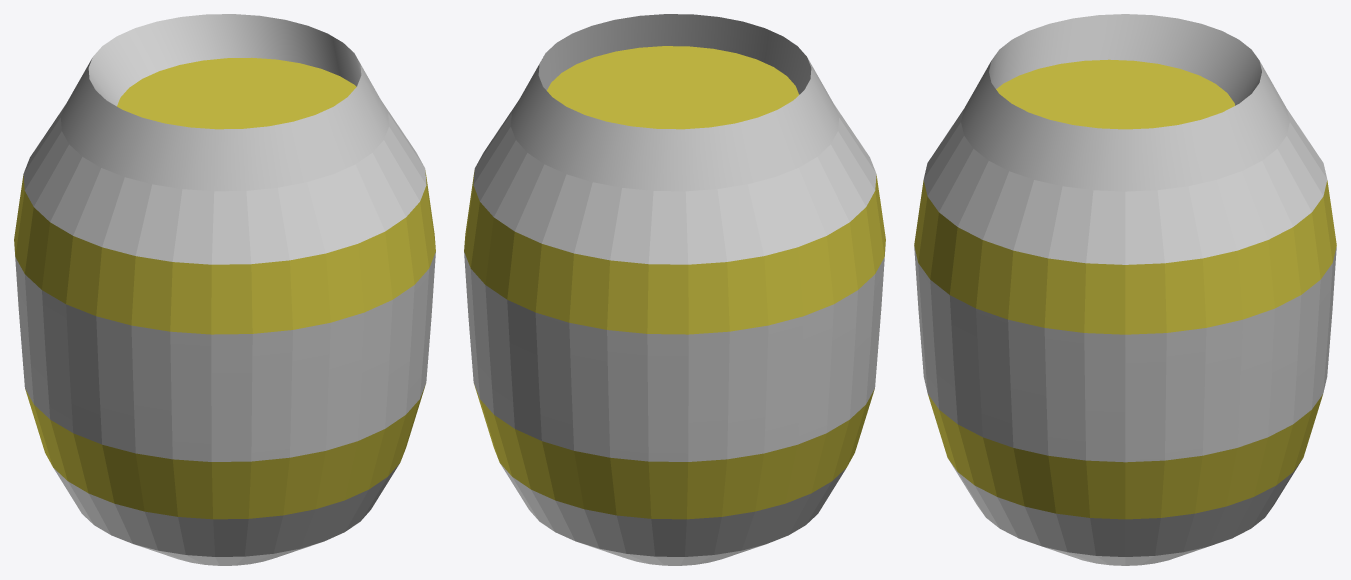
Rendered from rocket.fbx.
3 views of the same model, side by side, from view 1: azimuth 30°, elevation 25°; view 2: azimuth 150°, elevation 25°; view 3: azimuth 270°, elevation 25° (orthographic).
Visible parts, largest first — view 1: Cylinder; view 2: Cylinder; view 3: Cylinder.
Part boxes in pixels (bbox=[...]): Cylinder: bbox=[14, 14, 435, 565]; Cylinder: bbox=[464, 14, 885, 565]; Cylinder: bbox=[914, 14, 1336, 565].
Bounding box in the file's own units: 23.29 × 28.08 × 23.29.
